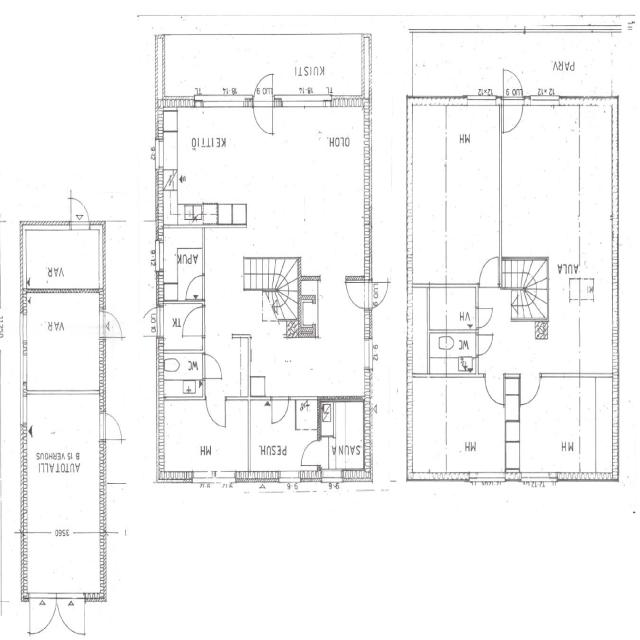door: (500, 65, 526, 135), (445, 284, 481, 331), (251, 72, 275, 136), (54, 592, 88, 635), (476, 252, 502, 291), (205, 387, 228, 430), (180, 303, 206, 340), (100, 409, 125, 444), (344, 277, 370, 309), (483, 372, 506, 407), (68, 194, 92, 227), (200, 351, 225, 382), (519, 372, 541, 406), (100, 308, 124, 339), (298, 437, 321, 467), (269, 394, 290, 426), (184, 271, 206, 301), (474, 330, 496, 358), (474, 302, 496, 330), (429, 262, 448, 286), (433, 441, 449, 465)
window: (196, 90, 248, 111), (278, 94, 332, 112), (191, 469, 236, 485), (527, 91, 564, 108), (520, 470, 555, 486), (470, 469, 506, 484), (464, 92, 497, 108), (362, 332, 374, 372), (19, 392, 31, 430), (319, 470, 344, 484), (277, 471, 301, 484)
zone: (291, 105, 370, 277), (501, 101, 580, 265), (165, 103, 270, 221), (22, 390, 105, 536), (445, 98, 501, 288), (517, 374, 617, 477), (290, 278, 370, 396), (22, 290, 103, 392), (546, 272, 617, 376), (158, 398, 250, 476), (445, 376, 513, 476), (272, 36, 367, 99), (248, 400, 318, 478), (22, 226, 104, 292), (409, 97, 446, 212), (407, 376, 448, 474), (320, 399, 368, 478), (158, 225, 204, 302), (27, 593, 86, 637), (160, 348, 204, 400), (432, 331, 478, 376), (445, 285, 478, 330), (104, 483, 129, 535)
